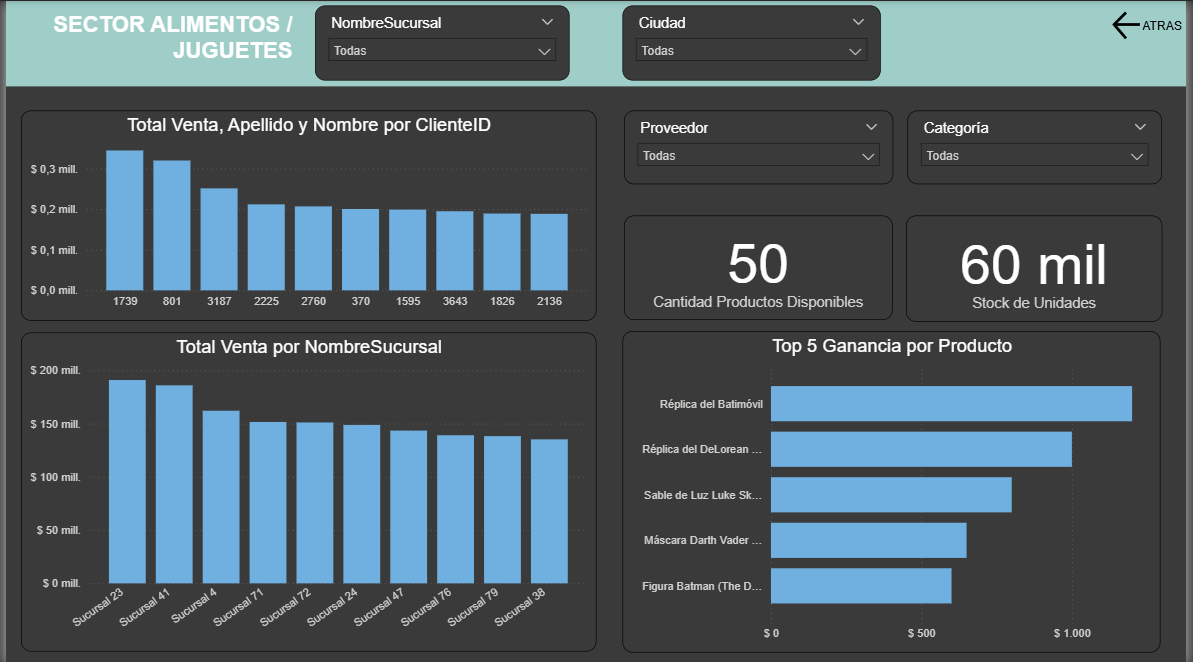

The dashboard page shown, as its layout file describes it:
{"tool":"powerbi","page":{"name":"Datos Alimentos/Juguetes","canvas":[1280,720],"ordinal":2},"visuals":[{"type":"shape","box":[0,0,1281.3,92.6],"z":0},{"type":"slicer","fields":{"Values":["Sucursales.NombreSucursal"]},"box":[334.5,5.7,275.9,81.3],"z":1000},{"type":"slicer","fields":{"Values":["Ciudad.Ciudad"]},"box":[669,5.7,279.7,81.3],"z":2000},{"type":"card","fields":{"Values":["Count(VentasAlimentosJuguetes.ProductoID)"]},"box":[670.9,232.4,291,113.4],"z":3000},{"type":"card","fields":{"Values":["Sum(VentasAlimentosJuguetes.Unidades)"]},"box":[975.1,232.4,277.8,115.3],"z":4000},{"type":"barChart","title":"Top 5 Ganancia por Producto","fields":{"Y":["Productos.Ganancia M"],"Category":["Productos.Producto"]},"box":[669.2,358.5,583.6,348.6],"z":5000},{"type":"textbox","box":[36,6,280,76],"z":6000},{"type":"slicer","fields":{"Values":["Productos.Categoría"]},"box":[978,118,276,80],"z":7000},{"type":"slicer","fields":{"Values":["Proveedores.Proveedor"]},"box":[670,118,292,80],"z":8000},{"type":"actionButton","box":[1196,6,84,40],"z":9000},{"type":"clusteredColumnChart","fields":{"Category":["Sucursales.NombreSucursal"],"Y":["VentasAlimentosJuguetes.Total Venta"]},"box":[16,360,624,346],"z":10000},{"type":"clusteredColumnChart","fields":{"Category":["Clientes.ClienteID"],"Y":["VentasAlimentosJuguetes.Total Venta"]},"box":[16,118,624,228],"z":11000}]}

Visuals, with their boxes in screenshot pixels (x1, y1, x2, y2), scaled from the page's 1280x720 canvas onto the 1193x662 screenshot:
shape: rect(0, 0, 1192, 85)
slicer - Sucursales.NombreSucursal: rect(312, 5, 569, 80)
slicer - Ciudad.Ciudad: rect(624, 5, 884, 80)
card - Count(VentasAlimentosJuguetes.ProductoID): rect(625, 214, 897, 318)
card - Sum(VentasAlimentosJuguetes.Unidades): rect(909, 214, 1168, 320)
"Top 5 Ganancia por Producto" barChart: rect(624, 330, 1168, 650)
textbox: rect(34, 6, 295, 75)
slicer - Productos.Categoría: rect(912, 108, 1169, 182)
slicer - Proveedores.Proveedor: rect(624, 108, 897, 182)
actionButton: rect(1115, 6, 1192, 42)
clusteredColumnChart - Sucursales.NombreSucursal x VentasAlimentosJuguetes.Total Venta: rect(15, 331, 596, 649)
clusteredColumnChart - Clientes.ClienteID x VentasAlimentosJuguetes.Total Venta: rect(15, 108, 596, 318)
